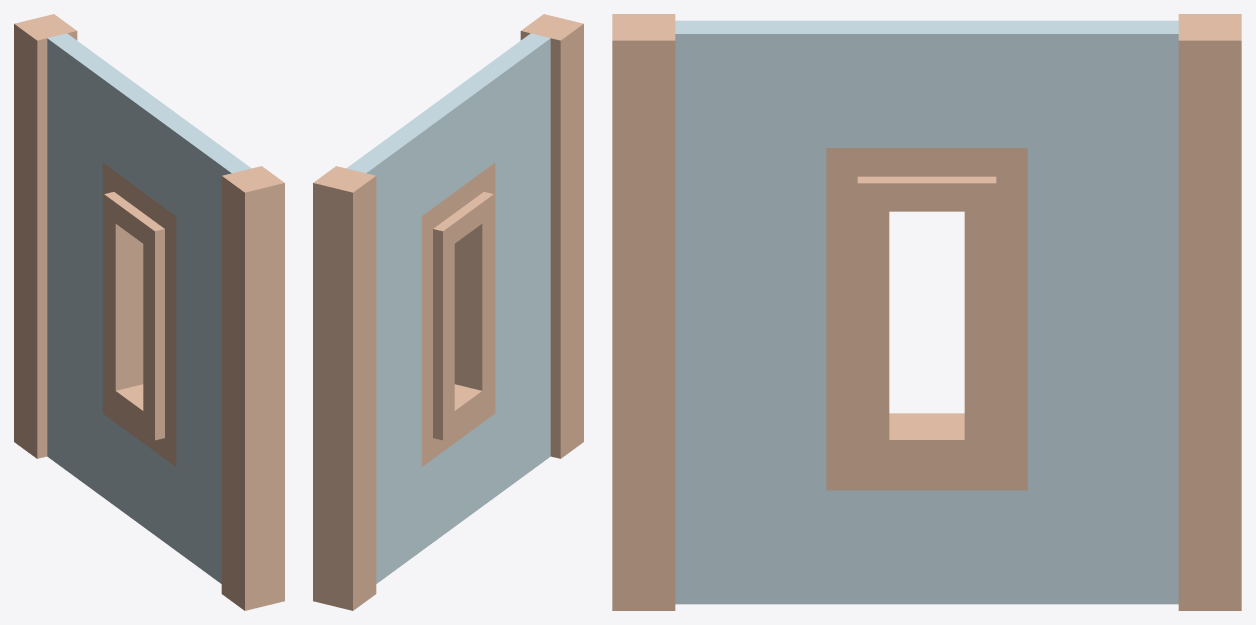
3 views of the same model, side by side, from view 1: azimuth 30°, elevation 25°; view 2: azimuth 150°, elevation 25°; view 3: azimuth 270°, elevation 25° (orthographic). The views are drawn at different scales.
Parts seen in each view (by area): view 1: wallWindowSmall; view 2: wallWindowSmall; view 3: wallWindowSmall.
Part boxes in pixels (x1,y1,x2,y2): wallWindowSmall: [14, 14, 284, 610]; wallWindowSmall: [313, 14, 583, 610]; wallWindowSmall: [612, 14, 1241, 610].
Size of the model in its own units: 0.1 by 1 by 1.
